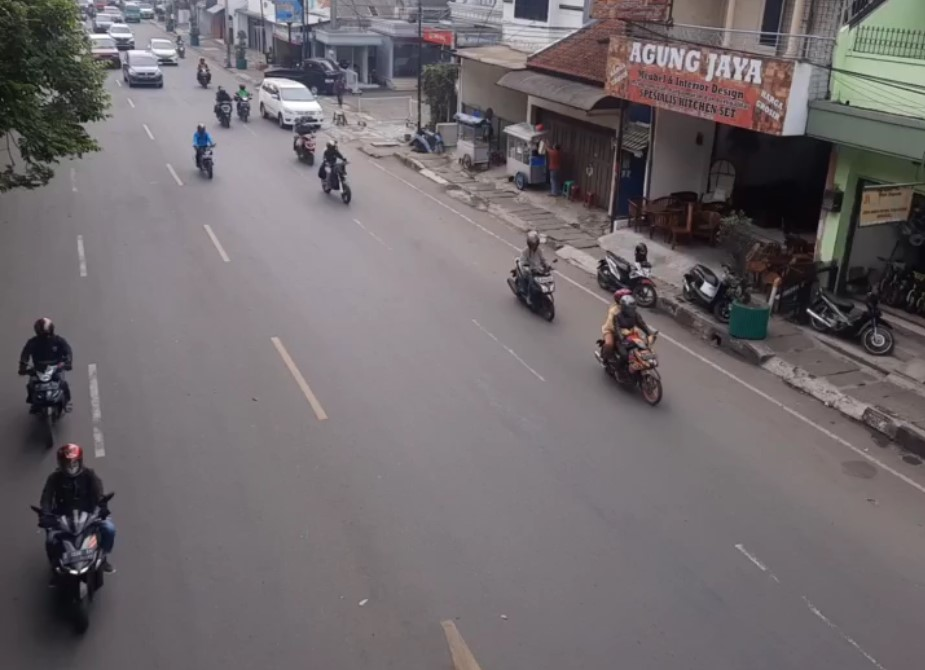mobil: (258, 78, 324, 127), (119, 49, 163, 87)
motor: (38, 446, 124, 634), (17, 314, 77, 446), (596, 293, 665, 407), (507, 231, 560, 327), (317, 142, 356, 209), (192, 127, 218, 182), (232, 82, 255, 125), (213, 88, 234, 130), (194, 57, 212, 89)
